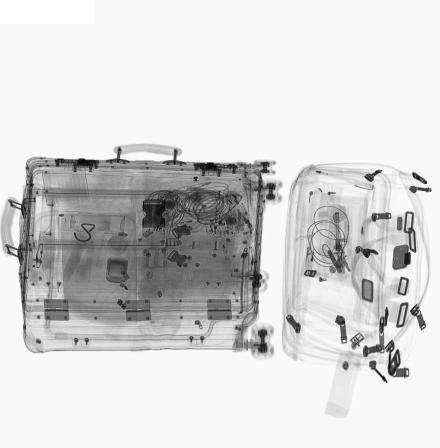Lighter: (301, 246, 318, 279)
